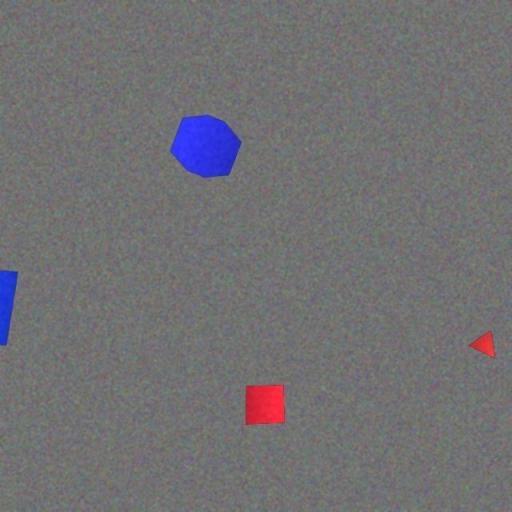RED_SQUARE: (246, 385, 284, 425)
